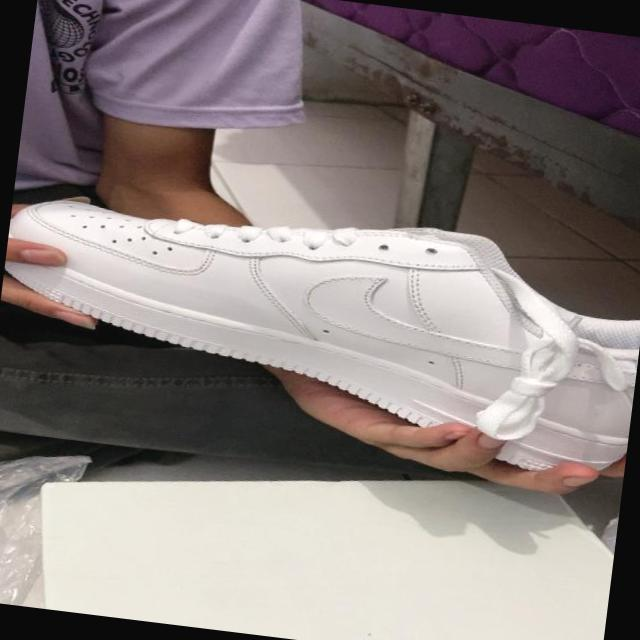nike_original_airforce: (0, 173, 640, 482)
